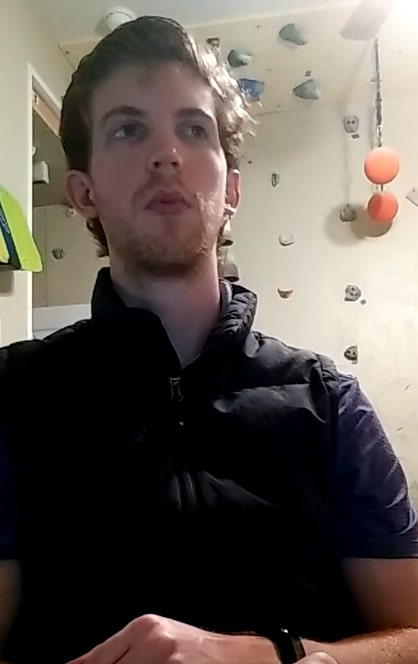Not Sleeping: (96, 105, 217, 148)
